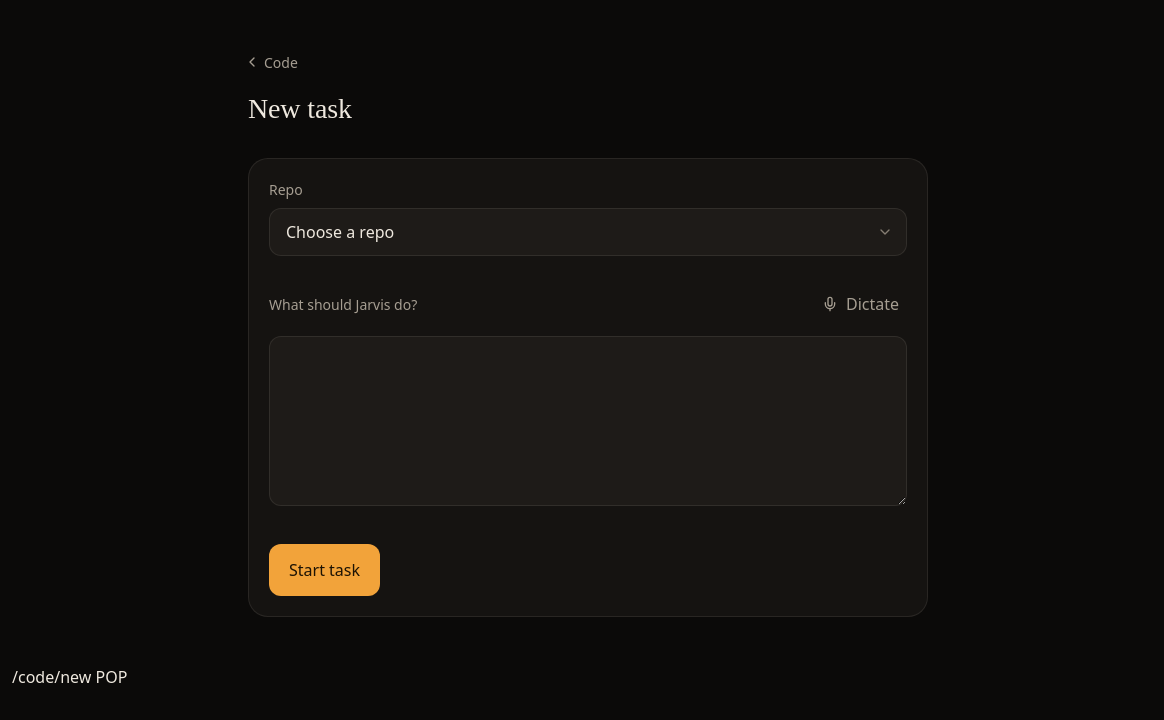
Test: Code: new task › shows the button as busy while the task is being started
Select "acme/shop-admin" in the dropdown labelled "Repo" at (588, 232), box [269,208,907,256]
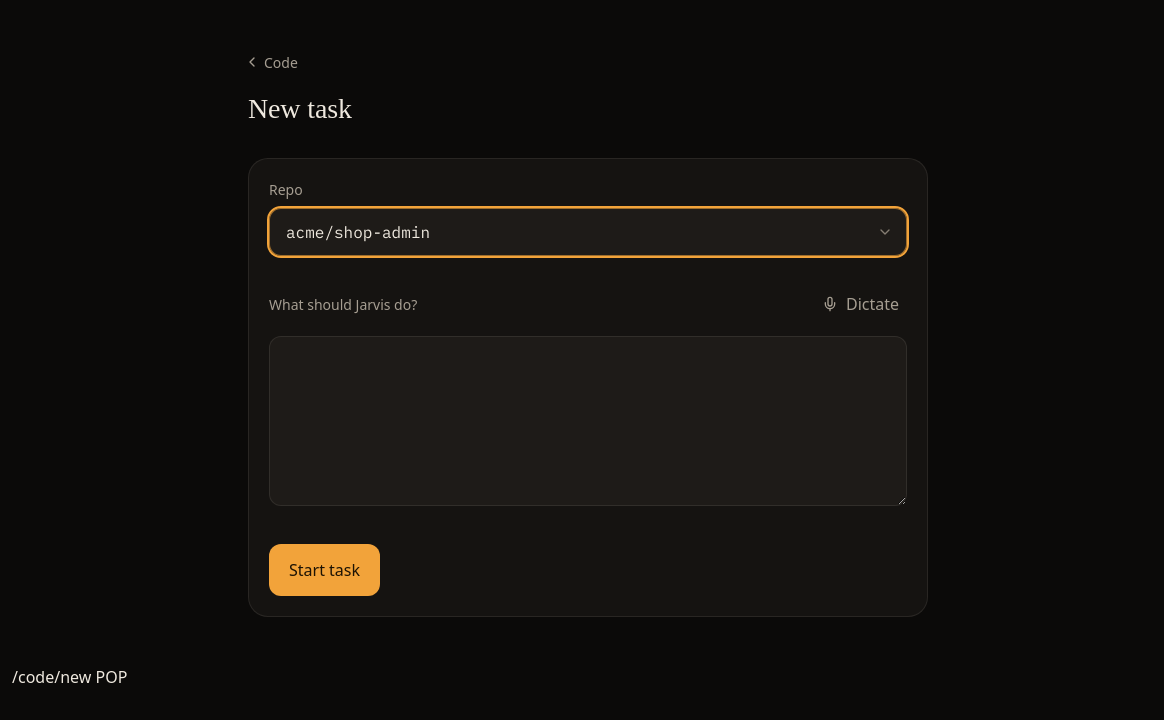
Type "Add a holiday banner" into the text box labelled "What should Jarvis do?" at (588, 421), box [269,336,907,506]
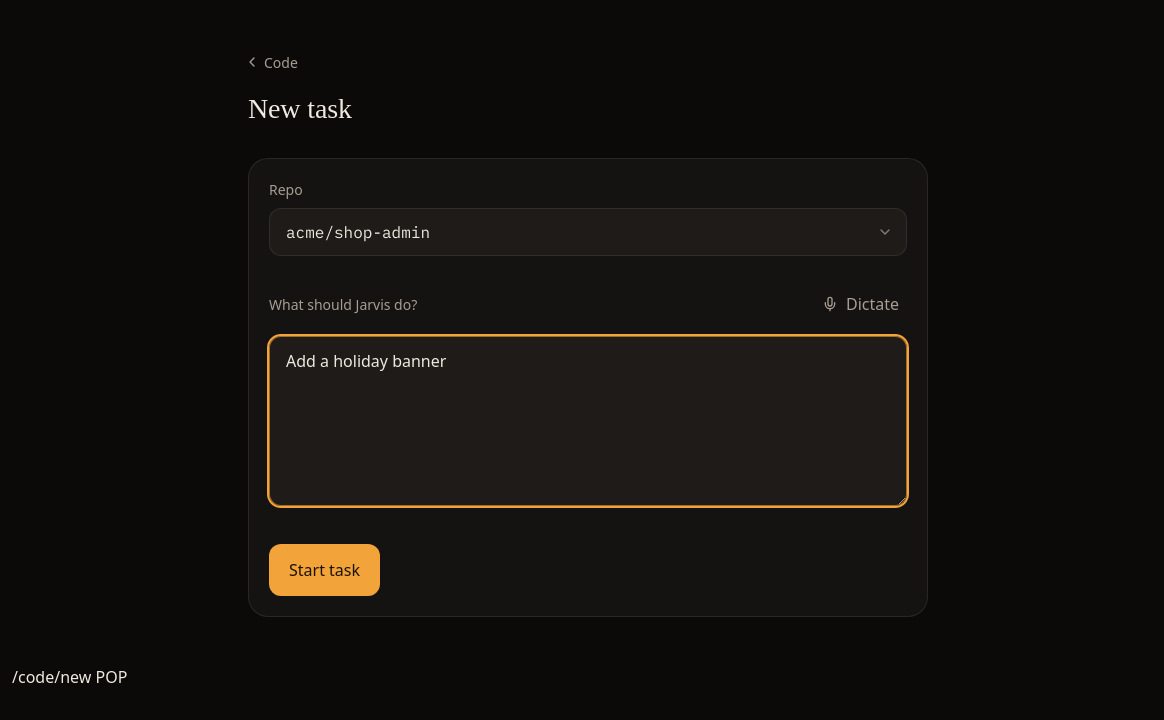
Click the button "Start task" at (324, 570), box [269,544,380,596]
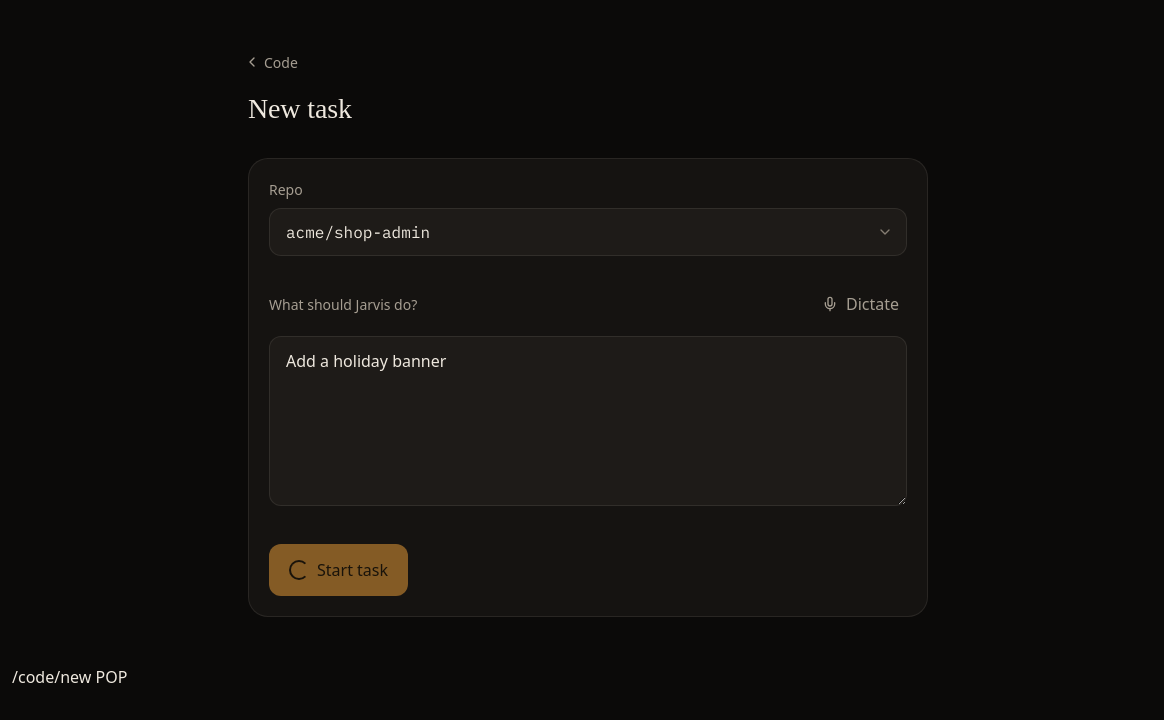
Now the button "Start task" is disabled, box [269,544,408,596]
